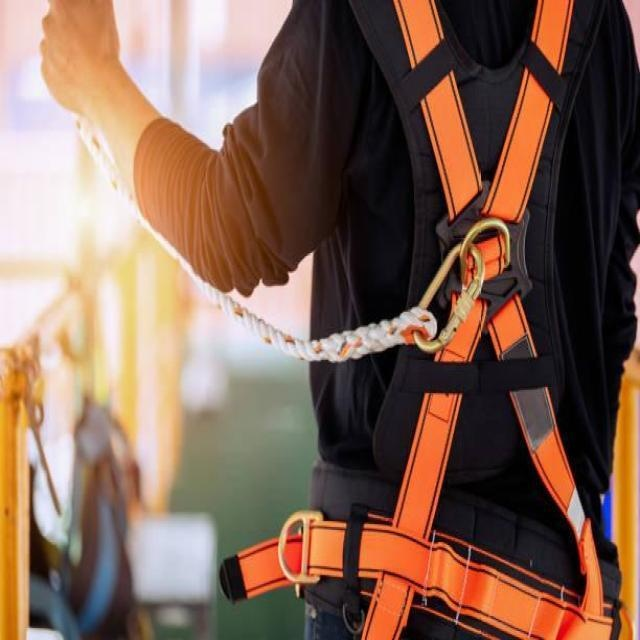Arnes_seguridad: (276, 0, 640, 640)
